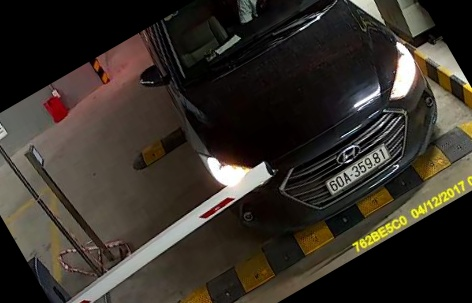plate: (322, 139, 391, 199)
